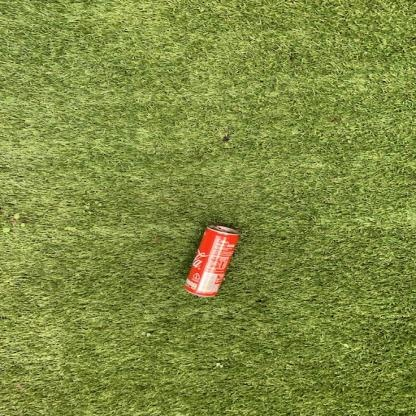trash: (185, 225, 238, 295)
